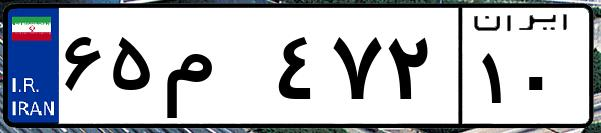0: (525, 38, 570, 115)
1: (475, 38, 525, 113)
2: (385, 28, 445, 110)
4: (270, 28, 330, 110)
5: (110, 28, 158, 98)
6: (57, 26, 110, 100)
7: (330, 28, 385, 110)
م: (158, 20, 270, 120)
